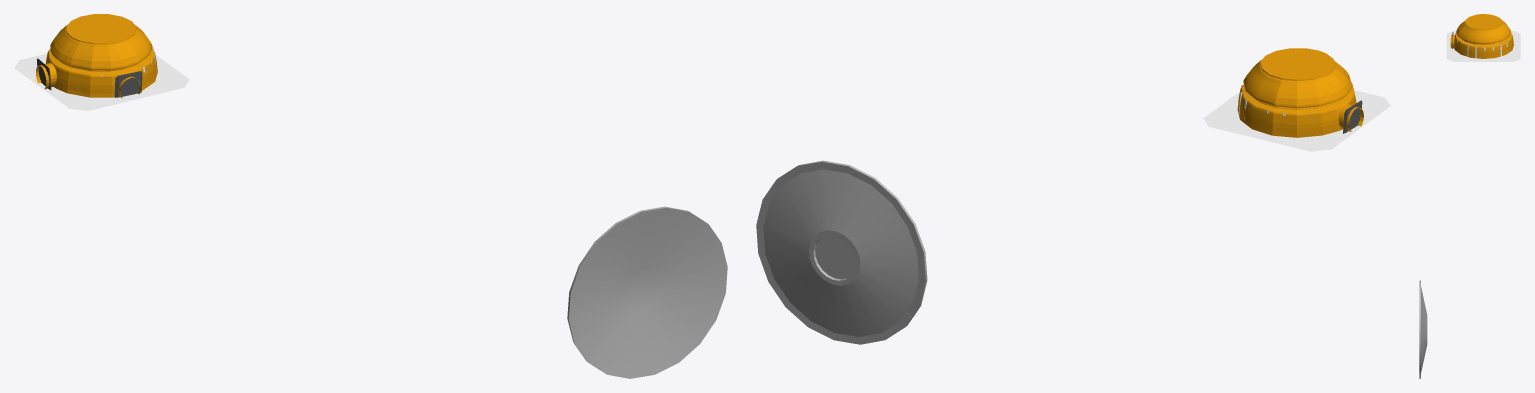
Rendered from pastroom.glb.
The picture shows the model from 3 angles, left to right: view 1: azimuth 30°, elevation 25°; view 2: azimuth 150°, elevation 25°; view 3: azimuth 270°, elevation 25°; orthographic projection. The views are drawn at different scales.
Visible parts, largest first — view 1: pCylinder7.002, polySurface1257, pPlane5; view 2: pCylinder7.002, polySurface1257, pPlane5; view 3: polySurface1257, pPlane5, pCylinder7.002.
Part boxes in pixels (x1,y1,x2,y2): pCylinder7.002: (567, 206, 727, 378); polySurface1257: (36, 14, 157, 98); pPlane5: (14, 53, 189, 110); pCylinder7.002: (756, 160, 927, 344); polySurface1257: (1237, 48, 1363, 137); pPlane5: (1203, 90, 1390, 151); polySurface1257: (1450, 14, 1513, 58); pPlane5: (1446, 30, 1520, 61); pCylinder7.002: (1419, 280, 1427, 378).
Size of the model in its own units: 10.99 by 7.1 by 2.89.
